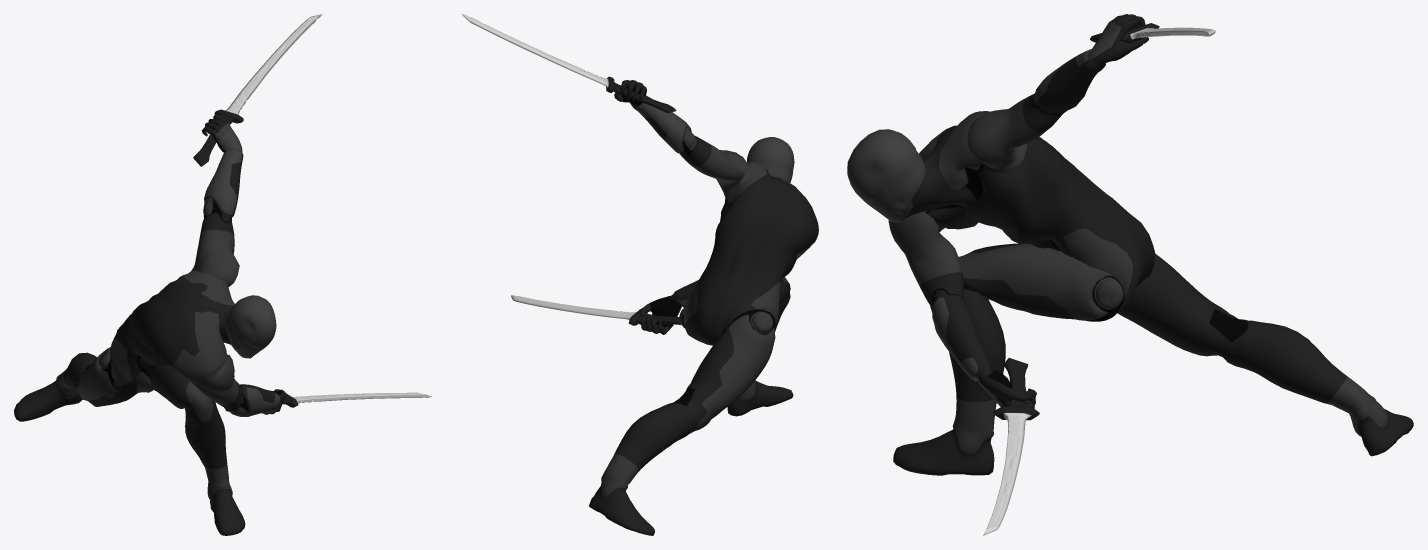
The picture shows the model from 3 angles, left to right: view 1: azimuth 30°, elevation 25°; view 2: azimuth 150°, elevation 25°; view 3: azimuth 270°, elevation 25°; orthographic projection. The views are drawn at different scales.
Parts seen in each view (by area): view 1: Cyborg_Ninja_Killer, Sword_l, Sword_l001; view 2: Cyborg_Ninja_Killer, Sword_l, Sword_l001; view 3: Cyborg_Ninja_Killer, Sword_l001, Sword_l.
Boxes of the visible parts, <box> form: Cyborg_Ninja_Killer: <box>14,114,286,535</box>; Sword_l: <box>193,14,322,166</box>; Sword_l001: <box>282,392,432,407</box>; Cyborg_Ninja_Killer: <box>589,80,818,535</box>; Sword_l: <box>461,14,676,112</box>; Sword_l001: <box>511,295,680,325</box>; Cyborg_Ninja_Killer: <box>847,14,1413,475</box>; Sword_l001: <box>983,358,1039,535</box>; Sword_l: <box>1090,23,1215,43</box>.
Size of the model in its own units: 133 by 172 by 156.
Materials: 2 (2 with a texture image).
